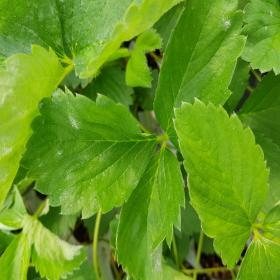Powdery Mildew Leaf: (19, 85, 159, 220), (151, 0, 248, 153), (0, 43, 66, 211), (113, 146, 185, 279), (19, 214, 89, 279), (238, 0, 279, 76)
